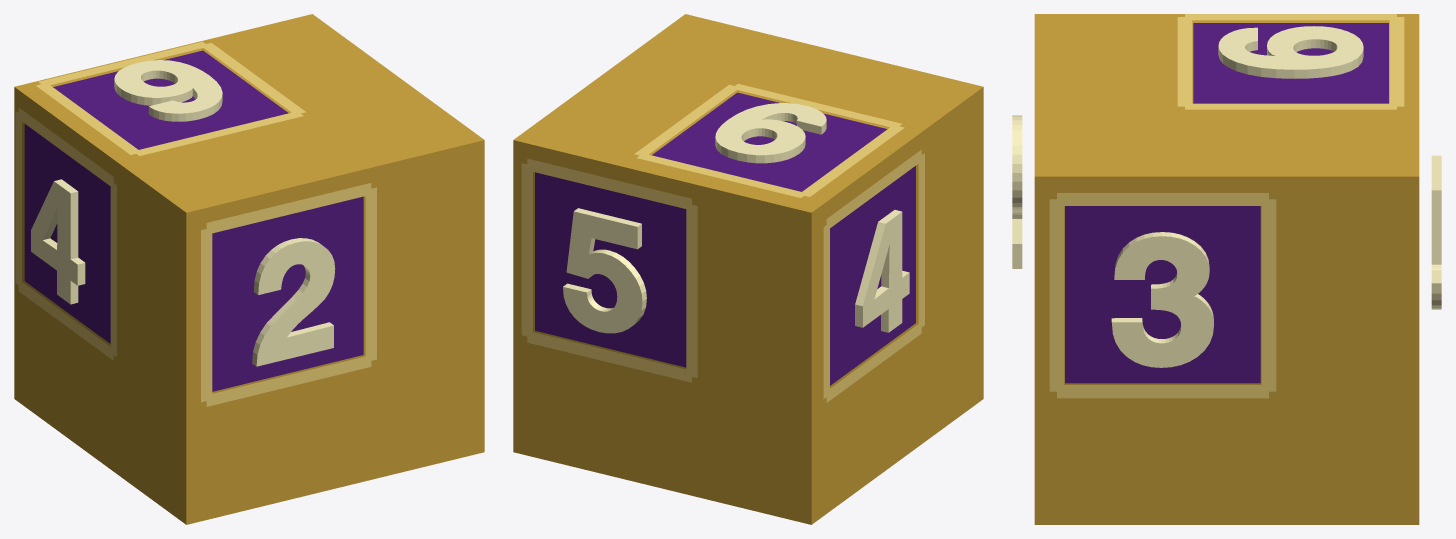
The picture shows the model from 3 angles, left to right: view 1: azimuth 30°, elevation 25°; view 2: azimuth 150°, elevation 25°; view 3: azimuth 270°, elevation 25°; orthographic projection. The views are drawn at different scales.
Parts seen in each view (by area): view 1: rune-d6_body, inset_face_panel (×3), face_frame (×12), face_2_beveled_number, face_6_beveled_number, face_4_beveled_number; view 2: rune-d6_body, inset_face_panel (×3), face_frame (×12), face_5_beveled_number, face_6_beveled_number, face_4_beveled_number; view 3: rune-d6_body, inset_face_panel (×2), face_frame (×8), face_3_beveled_number, face_6_beveled_number, face_5_beveled_number, face_2_beveled_number.
Part boxes in pixels (x1,y1,x2,y2): rune-d6_body: (14,14,484,524); inset_face_panel (×3): (24,50,363,391); face_frame (×12): (15,41,376,406); face_2_beveled_number: (252,238,335,366); face_6_beveled_number: (114,60,222,121); face_4_beveled_number: (31,179,85,304); rune-d6_body: (513,14,983,524); inset_face_panel (×3): (535,92,915,385); face_frame (×12): (521,83,924,402); face_5_beveled_number: (563,208,646,333); face_6_beveled_number: (715,103,826,163); face_4_beveled_number: (855,210,909,332); rune-d6_body: (1034,14,1419,524); inset_face_panel (×2): (1065,23,1388,383); face_frame (×8): (1049,14,1404,398); face_3_beveled_number: (1111,232,1213,367); face_6_beveled_number: (1218,26,1363,78); face_5_beveled_number: (1431,155,1441,309); face_2_beveled_number: (1012,115,1022,268).
Bounding box in the file's own units: 1.12 × 1.12 × 1.12.
